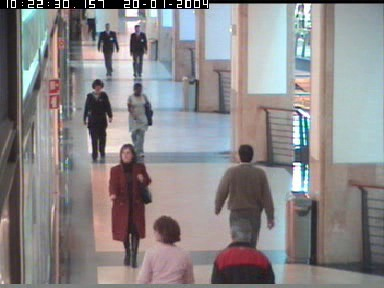person: (215, 144, 275, 284), (108, 144, 151, 268), (207, 218, 273, 285), (139, 217, 192, 283), (83, 78, 113, 159), (126, 82, 151, 156), (97, 23, 119, 77), (129, 23, 146, 76), (84, 9, 96, 41)
